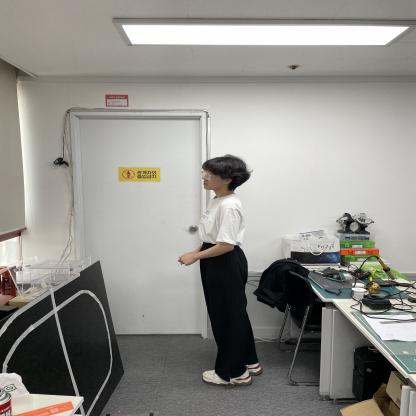normal: (179, 147, 267, 387)
